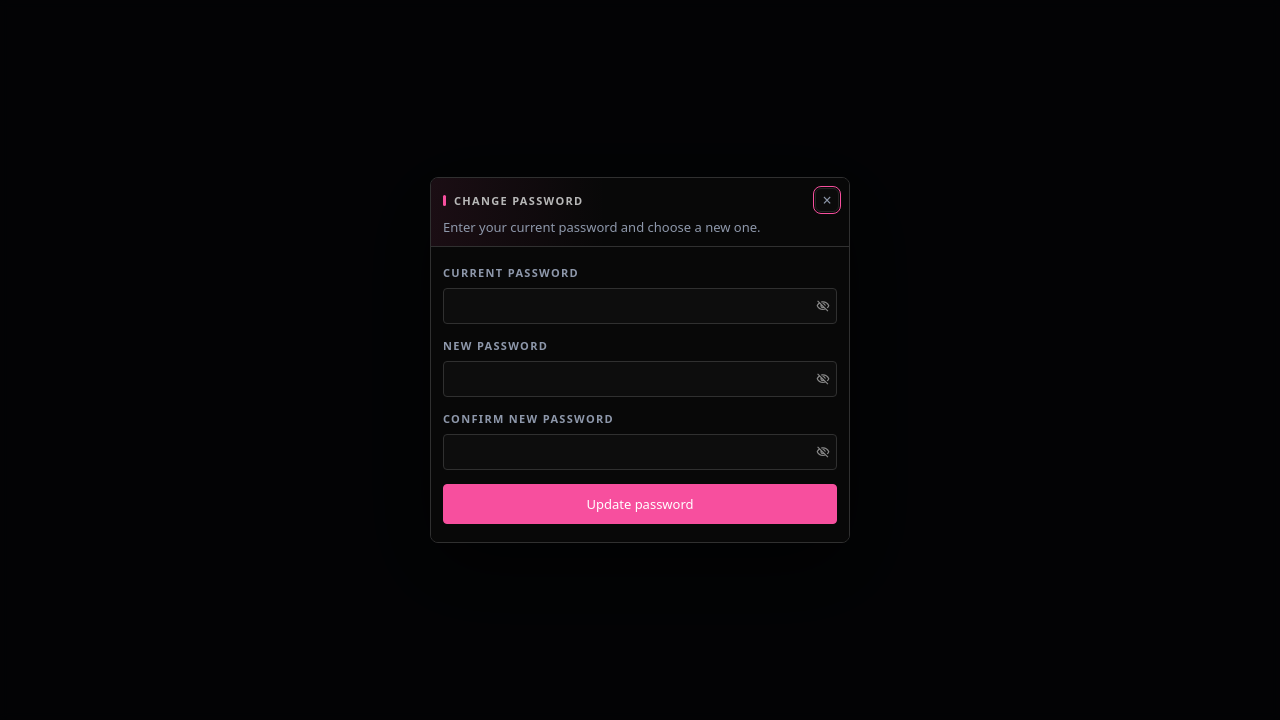
Test: ChangePasswordModal › shows API error for incorrect current password
Type "wrong-password" into the password field labelled "Current password" at (640, 306), box [443,288,837,324]
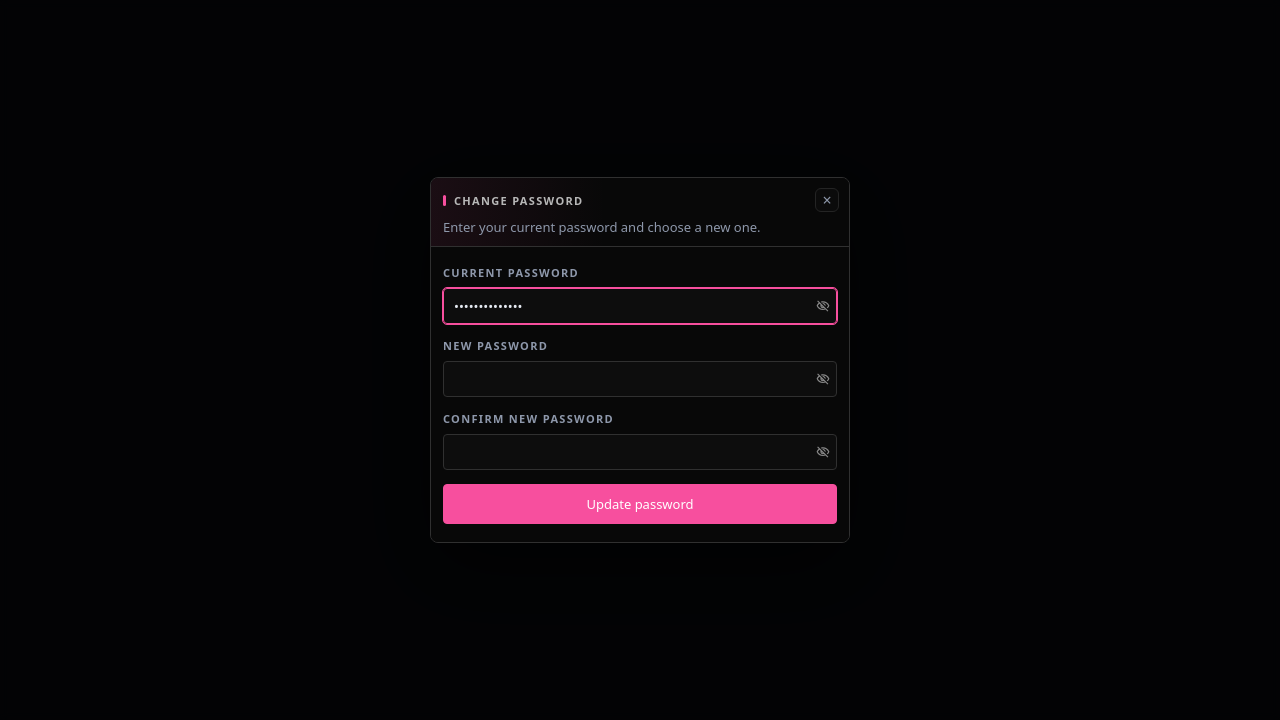
Type "newpassword123" into the password field labelled "New password" at (640, 379), box [443,361,837,397]
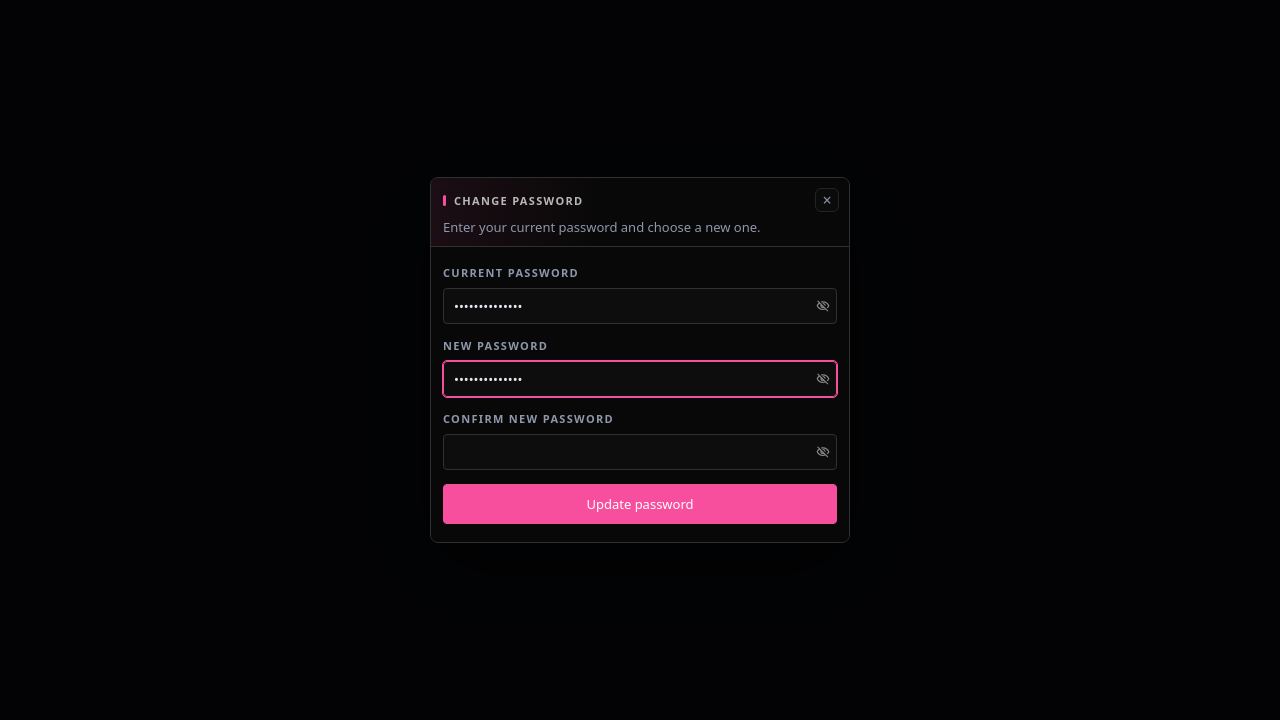
Type "newpassword123" into the password field labelled "Confirm new password" at (640, 452), box [443,434,837,470]
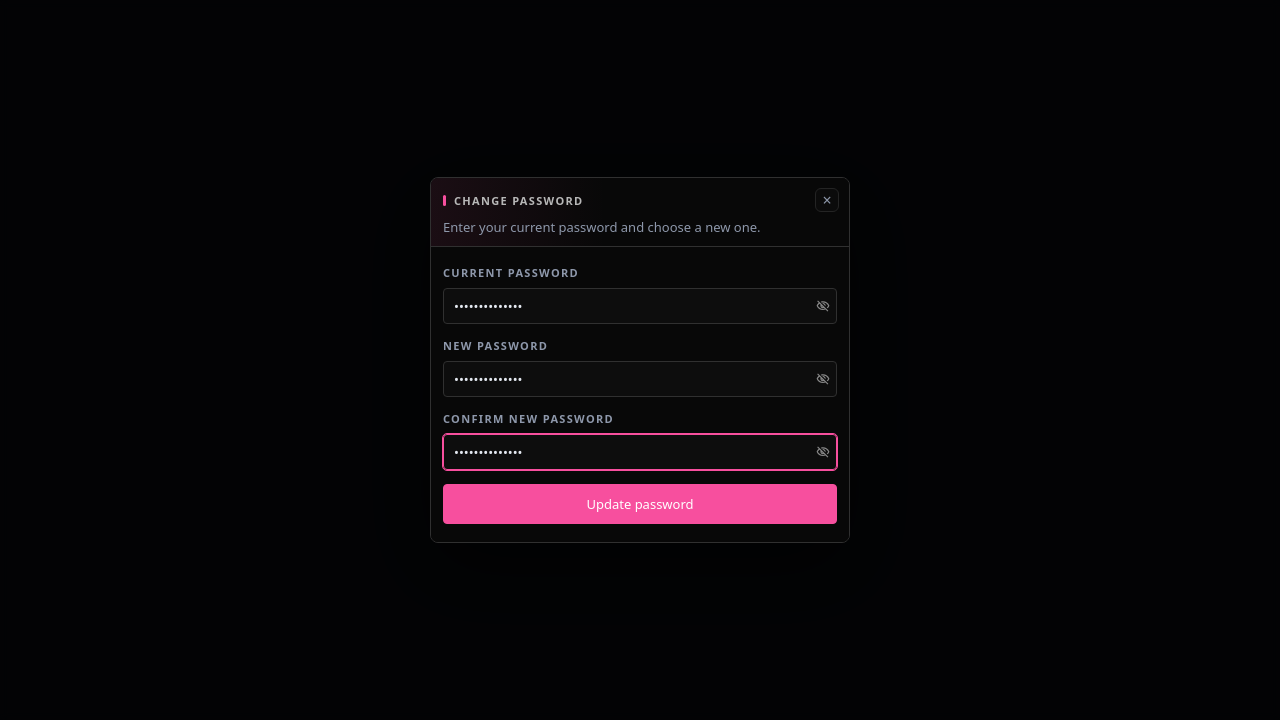
Click the button "Update password" at (640, 504), box [443,484,837,524]
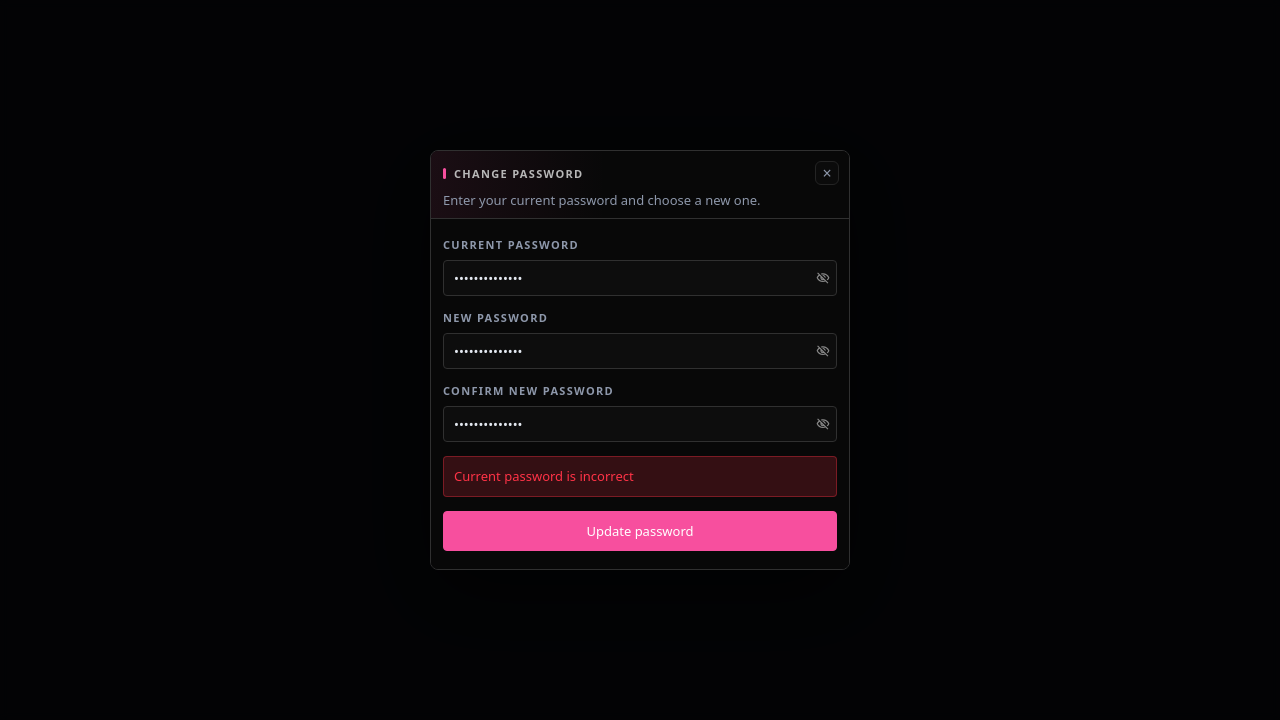
Expected: the text "Current password is incorrect" is shown, [443,456,837,497]
